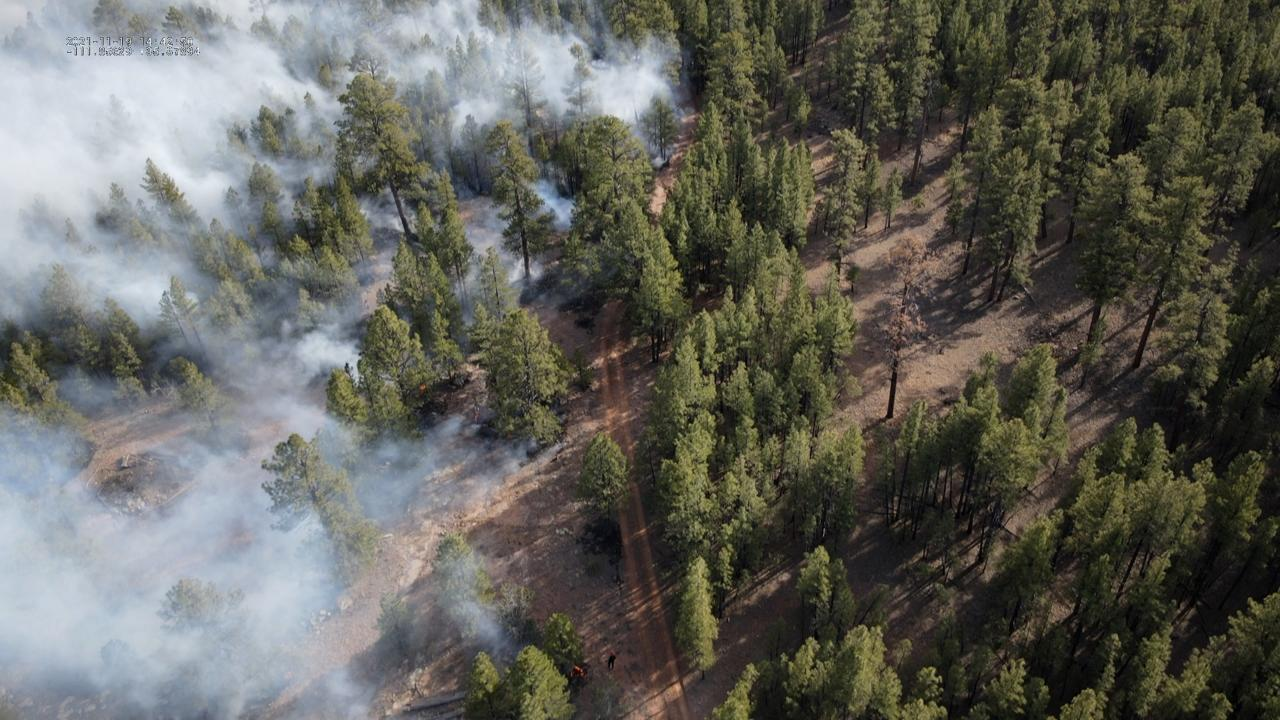fire: (574, 665, 585, 678), (419, 385, 427, 392), (570, 672, 573, 678)
smoke: (0, 0, 678, 720)
